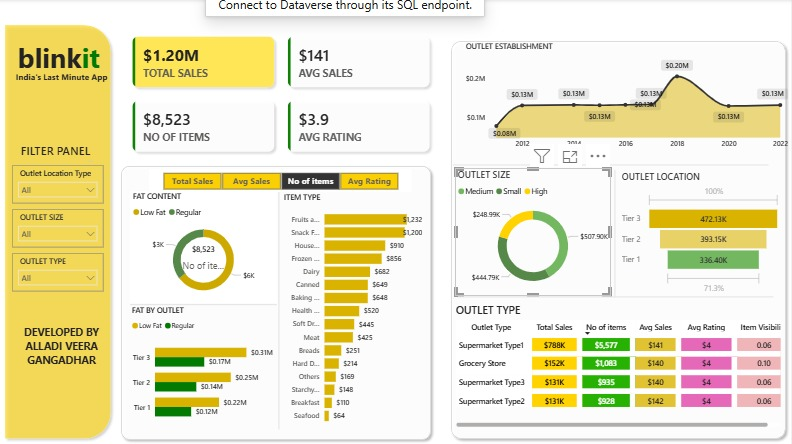

What the dashboard file says about the page in this screenshot:
{"tool":"powerbi","page":{"name":"Page 1","canvas":[1400,800],"ordinal":0},"visuals":[{"type":"shape","box":[0,37.3,205,750],"z":0},{"type":"textbox","box":[26.5,65.5,203.5,81.4],"z":1000},{"type":"textbox","box":[12.1,122.7,193.1,48.3],"z":2000},{"type":"cardVisual","fields":{"Data":["BlinkIT Grocery Data.Total Sales","BlinkIT Grocery Data.Avg Sales","BlinkIT Grocery Data.No of items","BlinkIT Grocery Data.Avg Rating"]},"box":[205.3,37.2,584.1,263.7],"z":3000},{"type":"shape","box":[206,286,566,502],"z":4000},{"type":"donutChart","title":"FAT CONTENT","fields":{"Y":["BlinkIT Grocery Data.Total Sales"],"Category":["BlinkIT Grocery Data.Item Fat Content"]},"box":[230,340,260,198],"z":5000},{"type":"slicer","fields":{"Values":["Metrics.Metrics"]},"box":[263.7,300.9,465.5,40.7],"z":6000},{"type":"card","fields":{"Values":["BlinkIT Grocery Data.Total Sales"]},"box":[316,428,86,56],"z":7000},{"type":"clusteredBarChart","title":"FAT BY OUTLET","fields":{"Y":["BlinkIT Grocery Data.Total Sales"],"Category":["BlinkIT Grocery Data.Outlet Location Type"],"Series":["BlinkIT Grocery Data.Item Fat Content"]},"box":[228.3,541.7,260,221.7],"z":8000},{"type":"shape","box":[230,528.3,260,23.3],"z":9000},{"type":"shape","box":[490,341.7,6.7,420],"z":10000},{"type":"barChart","title":"ITEM TYPE","fields":{"Y":["BlinkIT Grocery Data.Total Sales"],"Category":["BlinkIT Grocery Data.Item Type"]},"box":[496.7,341.7,255,420],"z":11000},{"type":"shape","box":[790,66,610,722],"z":12000},{"type":"lineChart","title":"OUTLET ESTABLISHMENT","fields":{"Y":["BlinkIT Grocery Data.Total Sales"],"Category":["BlinkIT Grocery Data.Outlet Establishment Year"]},"box":[806,86,580,200],"z":13000},{"type":"shape","box":[802,286,558,14],"z":14000},{"type":"donutChart","title":"OUTLET SIZE","fields":{"Y":["BlinkIT Grocery Data.Total Sales"],"Category":["BlinkIT Grocery Data.Outlet Size"]},"box":[806,300,276,226],"z":15000},{"type":"shape","box":[1082,302,14,224],"z":16000},{"type":"funnel","title":"OUTLET LOCATION","fields":{"Y":["Sum(BlinkIT Grocery Data.Sales)"],"Category":["BlinkIT Grocery Data.Outlet Location Type"]},"box":[1096,302,290,224],"z":17000},{"type":"shape","box":[810,484,558,88],"z":18000},{"type":"pivotTable","title":"OUTLET TYPE","fields":{"Values":["BlinkIT Grocery Data.Total Sales","BlinkIT Grocery Data.No of items","BlinkIT Grocery Data.Avg Sales","BlinkIT Grocery Data.Avg Rating","Avg(BlinkIT Grocery Data.Item Visibility)"],"Rows":["BlinkIT Grocery Data.Outlet Type"]},"box":[802.5,537.5,585,225],"z":19000},{"type":"slicer","fields":{"Values":["BlinkIT Grocery Data.Outlet Location Type"]},"box":[21.1,293.3,162.2,67.8],"z":20000},{"type":"slicer","fields":{"Values":["BlinkIT Grocery Data.Outlet Size"]},"box":[21.1,371.1,162.2,67.8],"z":21000},{"type":"slicer","fields":{"Values":["BlinkIT Grocery Data.Outlet Type"]},"box":[21.1,450,162.2,67.8],"z":22000},{"type":"textbox","title":"FILTER PANEL","box":[26.7,255,143.3,38.3],"z":22001},{"type":"image","box":[58.3,536.7,70,46.7],"z":22002},{"type":"image","box":[68.3,613.3,50,50],"z":22003},{"type":"textbox","box":[11.7,693.3,193.3,80],"z":22004}]}

Visuals, with their boxes on the page's 1400x800 design canvas (x1, y1, x2, y2). These are canvas units, not pixel positions in the 792x444 screenshot, which may show the page scaled, cropped or inside an application window:
shape: x1=0 y1=37 x2=205 y2=787
textbox: x1=26 y1=66 x2=230 y2=147
textbox: x1=12 y1=123 x2=205 y2=171
cardVisual - BlinkIT Grocery Data.Total Sales x BlinkIT Grocery Data.Avg Sales: x1=205 y1=37 x2=789 y2=301
shape: x1=206 y1=286 x2=772 y2=788
"FAT CONTENT" donutChart: x1=230 y1=340 x2=490 y2=538
slicer - Metrics.Metrics: x1=264 y1=301 x2=729 y2=342
card - BlinkIT Grocery Data.Total Sales: x1=316 y1=428 x2=402 y2=484
"FAT BY OUTLET" clusteredBarChart: x1=228 y1=542 x2=488 y2=763
shape: x1=230 y1=528 x2=490 y2=552
shape: x1=490 y1=342 x2=497 y2=762
"ITEM TYPE" barChart: x1=497 y1=342 x2=752 y2=762
shape: x1=790 y1=66 x2=1400 y2=788
"OUTLET ESTABLISHMENT" lineChart: x1=806 y1=86 x2=1386 y2=286
shape: x1=802 y1=286 x2=1360 y2=300
"OUTLET SIZE" donutChart: x1=806 y1=300 x2=1082 y2=526
shape: x1=1082 y1=302 x2=1096 y2=526
"OUTLET LOCATION" funnel: x1=1096 y1=302 x2=1386 y2=526
shape: x1=810 y1=484 x2=1368 y2=572
"OUTLET TYPE" pivotTable: x1=802 y1=538 x2=1388 y2=762
slicer - BlinkIT Grocery Data.Outlet Location Type: x1=21 y1=293 x2=183 y2=361
slicer - BlinkIT Grocery Data.Outlet Size: x1=21 y1=371 x2=183 y2=439
slicer - BlinkIT Grocery Data.Outlet Type: x1=21 y1=450 x2=183 y2=518
"FILTER PANEL" textbox: x1=27 y1=255 x2=170 y2=293
image: x1=58 y1=537 x2=128 y2=583
image: x1=68 y1=613 x2=118 y2=663
textbox: x1=12 y1=693 x2=205 y2=773
